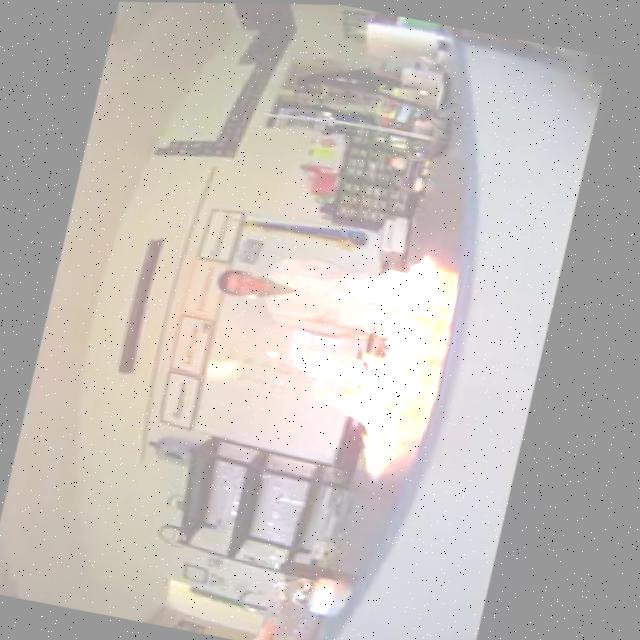Smoke: (265, 224, 445, 481)
